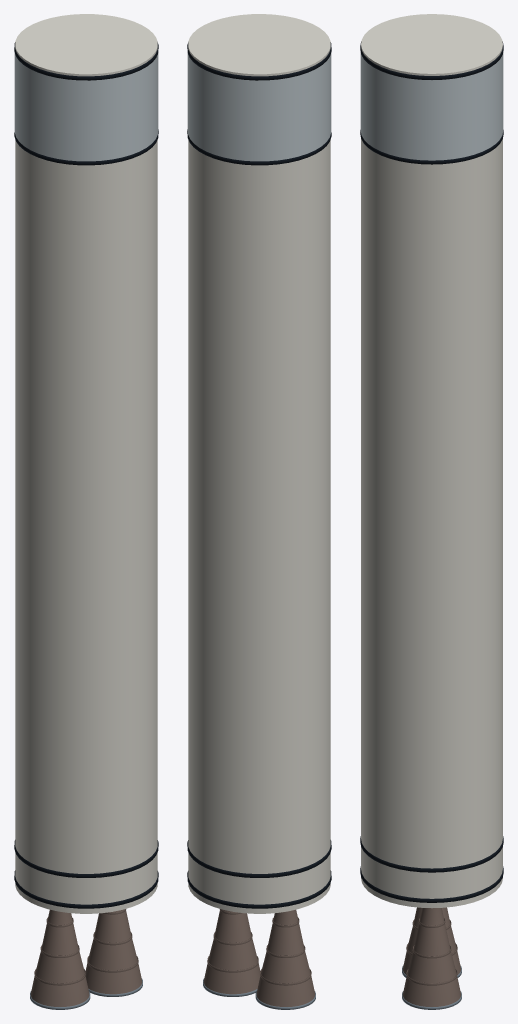
Rendered from titan_stage_1.glb.
3 views of the same model, side by side, from view 1: azimuth 30°, elevation 25°; view 2: azimuth 150°, elevation 25°; view 3: azimuth 270°, elevation 25° (orthographic).
Parts seen in each view (by area): view 1: titan_stage_1.mesh_Warm_white_enamel, titan_stage_1.mesh_Satin_aluminum, titan_stage_1.lr87_01.bell.mesh_Heat-stained_alloy, titan_stage_1.lr87_02.bell.mesh_Heat-stained_alloy, titan_stage_1.mesh_Shadowed_interior; view 2: titan_stage_1.mesh_Warm_white_enamel, titan_stage_1.mesh_Satin_aluminum, titan_stage_1.lr87_01.bell.mesh_Heat-stained_alloy, titan_stage_1.lr87_02.bell.mesh_Heat-stained_alloy, titan_stage_1.mesh_Shadowed_interior; view 3: titan_stage_1.mesh_Warm_white_enamel, titan_stage_1.mesh_Satin_aluminum, titan_stage_1.lr87_02.bell.mesh_Heat-stained_alloy, titan_stage_1.mesh_Shadowed_interior, titan_stage_1.lr87_01.bell.mesh_Heat-stained_alloy.
Part boxes in pixels (box(x1,y1,x2,y2)): titan_stage_1.mesh_Warm_white_enamel: box(15, 14, 157, 913); titan_stage_1.mesh_Satin_aluminum: box(14, 53, 158, 161); titan_stage_1.lr87_01.bell.mesh_Heat-stained_alloy: box(30, 909, 89, 1006); titan_stage_1.lr87_02.bell.mesh_Heat-stained_alloy: box(85, 909, 142, 994); titan_stage_1.mesh_Shadowed_interior: box(14, 42, 158, 908); titan_stage_1.mesh_Warm_white_enamel: box(188, 14, 330, 913); titan_stage_1.mesh_Satin_aluminum: box(187, 53, 331, 161); titan_stage_1.lr87_01.bell.mesh_Heat-stained_alloy: box(256, 909, 315, 1006); titan_stage_1.lr87_02.bell.mesh_Heat-stained_alloy: box(203, 909, 260, 994); titan_stage_1.mesh_Shadowed_interior: box(187, 42, 331, 908); titan_stage_1.mesh_Warm_white_enamel: box(361, 14, 502, 908); titan_stage_1.mesh_Satin_aluminum: box(360, 53, 503, 160); titan_stage_1.lr87_02.bell.mesh_Heat-stained_alloy: box(402, 908, 461, 1006); titan_stage_1.mesh_Shadowed_interior: box(360, 41, 503, 902); titan_stage_1.lr87_01.bell.mesh_Heat-stained_alloy: box(402, 907, 461, 974).
Bounding box in the file's own units: 3.08 × 22.3 × 3.08.
